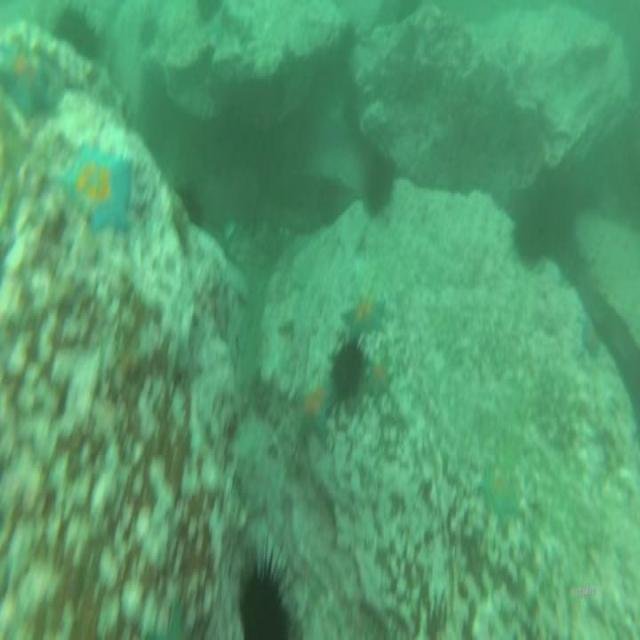echinus: (240, 573, 289, 640), (328, 348, 364, 398), (52, 10, 94, 50), (516, 216, 548, 262), (364, 158, 392, 209)
starfish: (3, 39, 49, 114), (88, 158, 133, 229), (65, 142, 112, 204), (481, 462, 520, 518), (298, 386, 332, 442), (341, 298, 385, 336), (367, 365, 392, 400), (581, 316, 603, 349)
